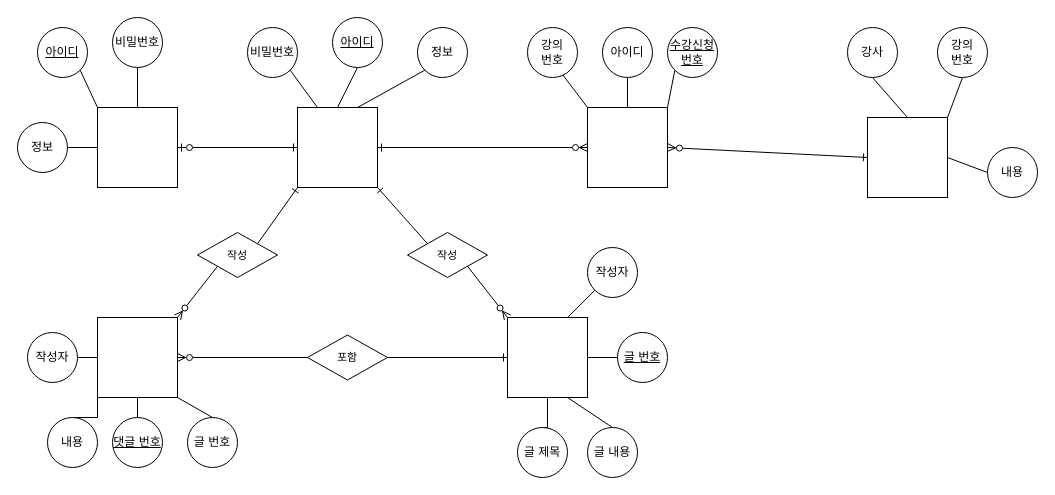
The diagram is 1055 pixels wide and 495 high, and some of its shapes have lost their labels. Each missing label, with the centre of its shape:
강의: the point at 907,157
게시글: the point at 547,357
관리자: the point at 137,147
댓글: the point at 137,357
수강 신청: the point at 627,147
회원: the point at 337,147
